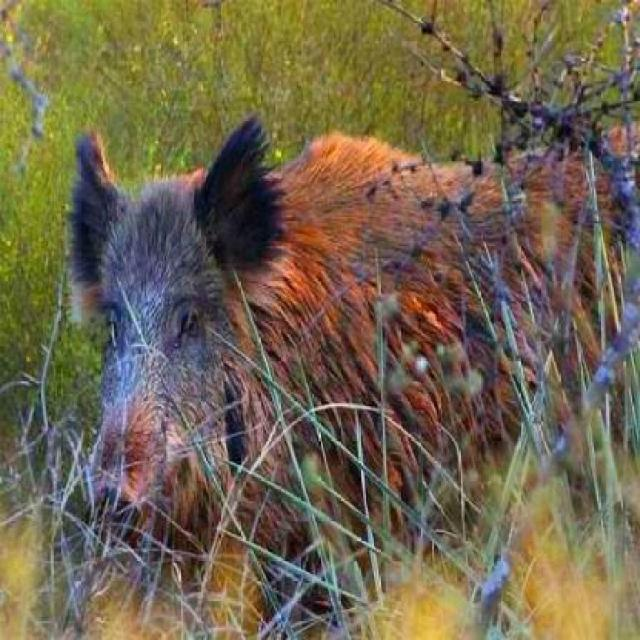Boar: (1, 116, 594, 570)
